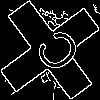C: (25, 25, 84, 82)
